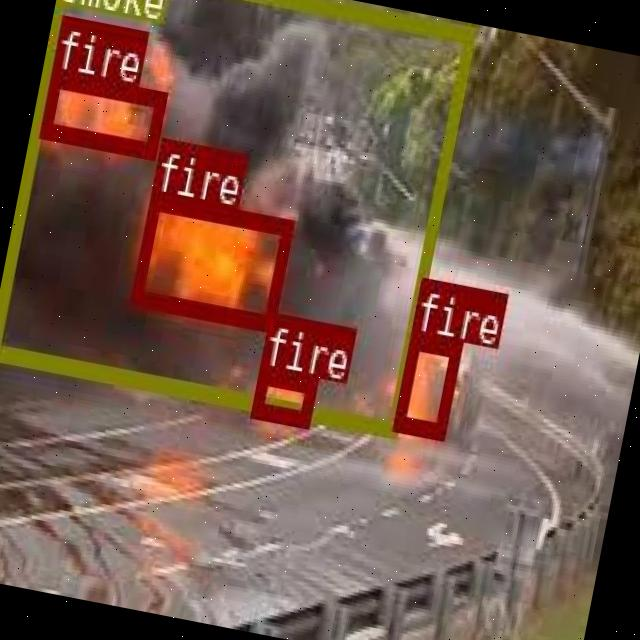fire: (130, 190, 292, 328), (39, 68, 165, 155), (392, 332, 462, 438), (250, 366, 317, 426)
smoke: (0, 0, 473, 432)
